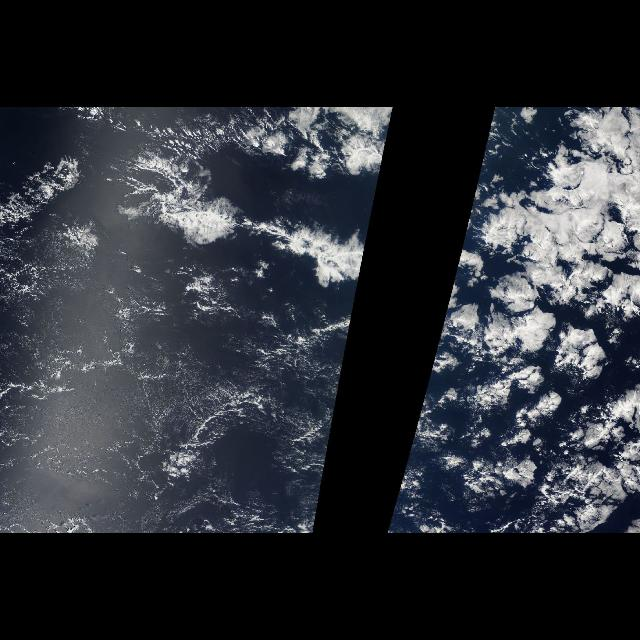Flower: (439, 246, 639, 528)
Sugar: (1, 157, 345, 533)
